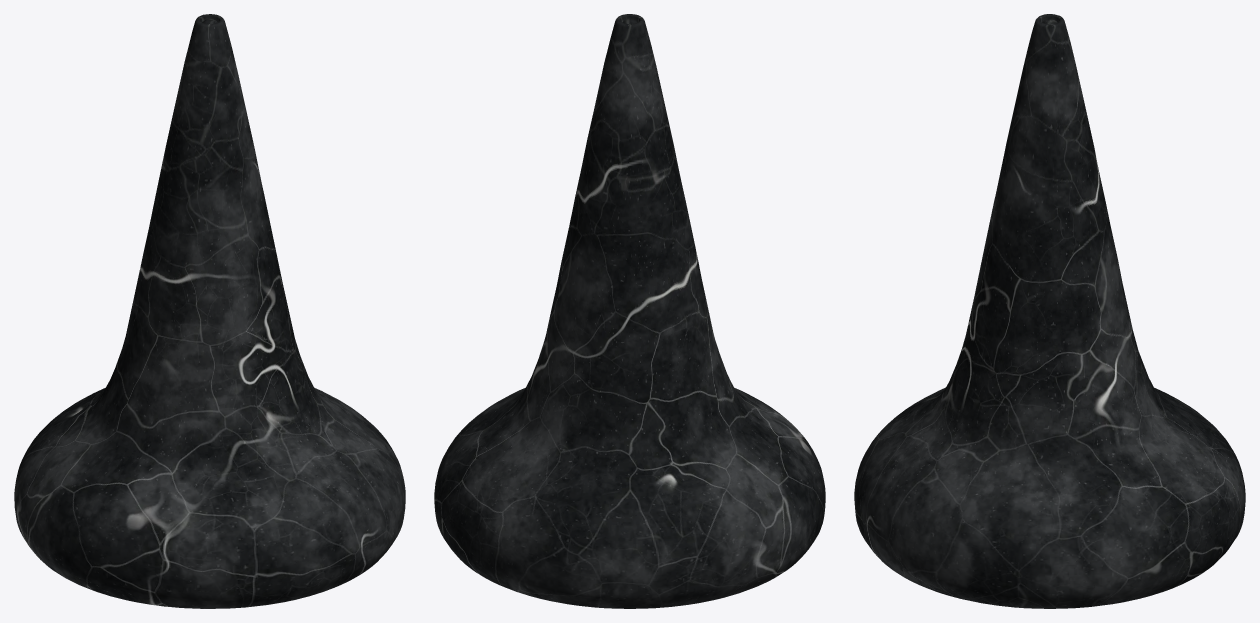
Rendered from pawn-black.glb.
3 renders of one model, left to right at view 1: azimuth 30°, elevation 25°; view 2: azimuth 150°, elevation 25°; view 3: azimuth 270°, elevation 25°, orthographic.
Parts seen in each view (by area): view 1: Serpentina_pawn_black; view 2: Serpentina_pawn_black; view 3: Serpentina_pawn_black.
Boxes of the visible parts, x1,y1,x2,y2 form: Serpentina_pawn_black: (14,14,405,608); Serpentina_pawn_black: (434,14,825,608); Serpentina_pawn_black: (854,14,1245,608).
Size of the model in its own units: 0.6549 by 0.95 by 0.6551.
Materials: 1 (1 with a texture image).
